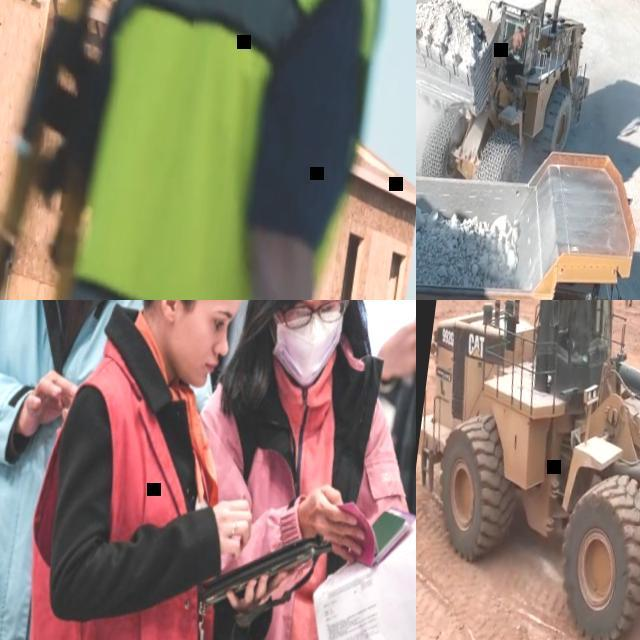machinery: (416, 300, 640, 640), (416, 116, 640, 300), (416, 0, 603, 192)
mask: (266, 304, 346, 388)
no_helmet: (516, 22, 523, 30)
no_mask: (167, 334, 219, 386)
no_vest: (30, 352, 246, 640), (0, 300, 157, 640), (188, 368, 377, 640), (512, 32, 522, 48)
person: (14, 300, 337, 640), (50, 0, 399, 300), (167, 300, 416, 640), (0, 300, 179, 640), (328, 300, 416, 640), (506, 20, 525, 50)
vest: (52, 0, 399, 300)
